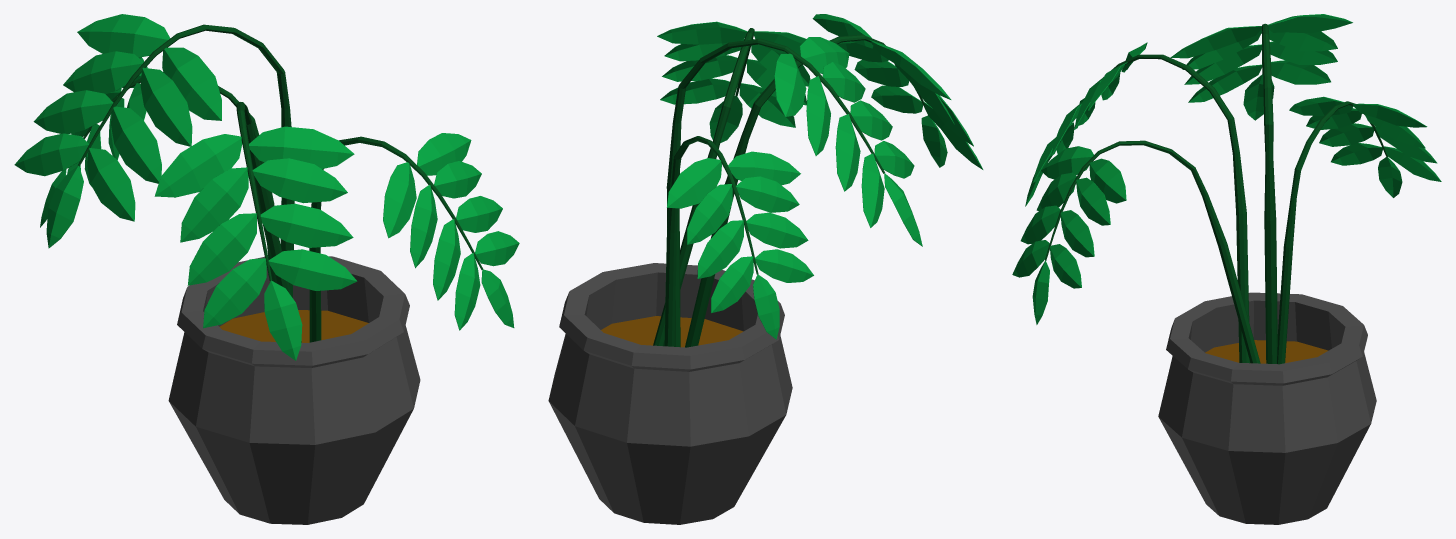
The model's file is Living_Room_flower1.fbx.
3 views of the same model, side by side, from view 1: azimuth 30°, elevation 25°; view 2: azimuth 150°, elevation 25°; view 3: azimuth 270°, elevation 25° (orthographic). The views are drawn at different scales.
Parts seen in each view (by area): view 1: Living_Room_flower1; view 2: Living_Room_flower1; view 3: Living_Room_flower1.
Part boxes in pixels (<box>): Living_Room_flower1: <box>14,14,519,524</box>; Living_Room_flower1: <box>548,14,983,524</box>; Living_Room_flower1: <box>1012,14,1441,524</box>.
Bounding box in the file's own units: 125 × 145 × 160.
